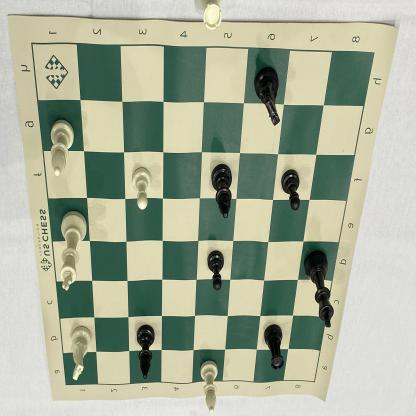black-bishop: (132, 320, 160, 387), (210, 160, 235, 223)
black-king: (300, 248, 337, 334)
black-knight: (252, 61, 287, 129)
black-pawn: (279, 166, 304, 214), (204, 247, 226, 295)
black-rook: (262, 319, 288, 376)
white-bishop: (46, 116, 76, 180), (197, 358, 222, 416)
white-king: (55, 207, 92, 295)
white-knight: (66, 320, 96, 390)
white-pawn: (130, 164, 154, 215)
